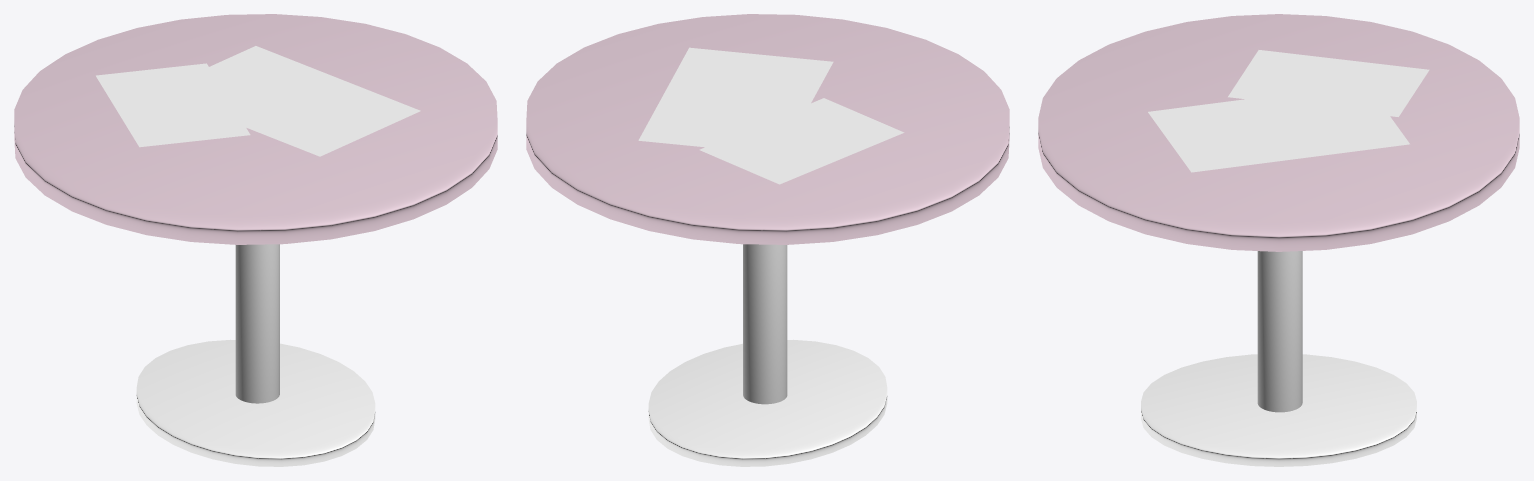
File: table.glb
The picture shows the model from 3 angles, left to right: view 1: azimuth 30°, elevation 25°; view 2: azimuth 150°, elevation 25°; view 3: azimuth 270°, elevation 25°; orthographic projection.
Parts seen in each view (by area): view 1: table, bottom, bigpaper, samllpaper, column; view 2: table, bottom, bigpaper, samllpaper, column; view 3: table, bottom, bigpaper, samllpaper, column.
Boxes of the visible parts, x1=… form: table: x1=14, y1=14, x2=497, y2=244; bottom: x1=136, y1=339, x2=375, y2=466; bigpaper: x1=155, y1=46, x2=420, y2=156; samllpaper: x1=96, y1=63, x2=250, y2=147; column: x1=235, y1=244, x2=279, y2=403; table: x1=526, y1=14, x2=1009, y2=244; bottom: x1=648, y1=339, x2=887, y2=466; bigpaper: x1=638, y1=47, x2=833, y2=154; samllpaper: x1=699, y1=98, x2=904, y2=184; column: x1=743, y1=244, x2=787, y2=404; table: x1=1038, y1=14, x2=1519, y2=251; bottom: x1=1141, y1=354, x2=1416, y2=466; bigpaper: x1=1148, y1=84, x2=1409, y2=172; samllpaper: x1=1228, y1=50, x2=1429, y2=116; column: x1=1257, y1=251, x2=1302, y2=412.
Size of the model in its own units: 2.48 by 1.69 by 2.41.
